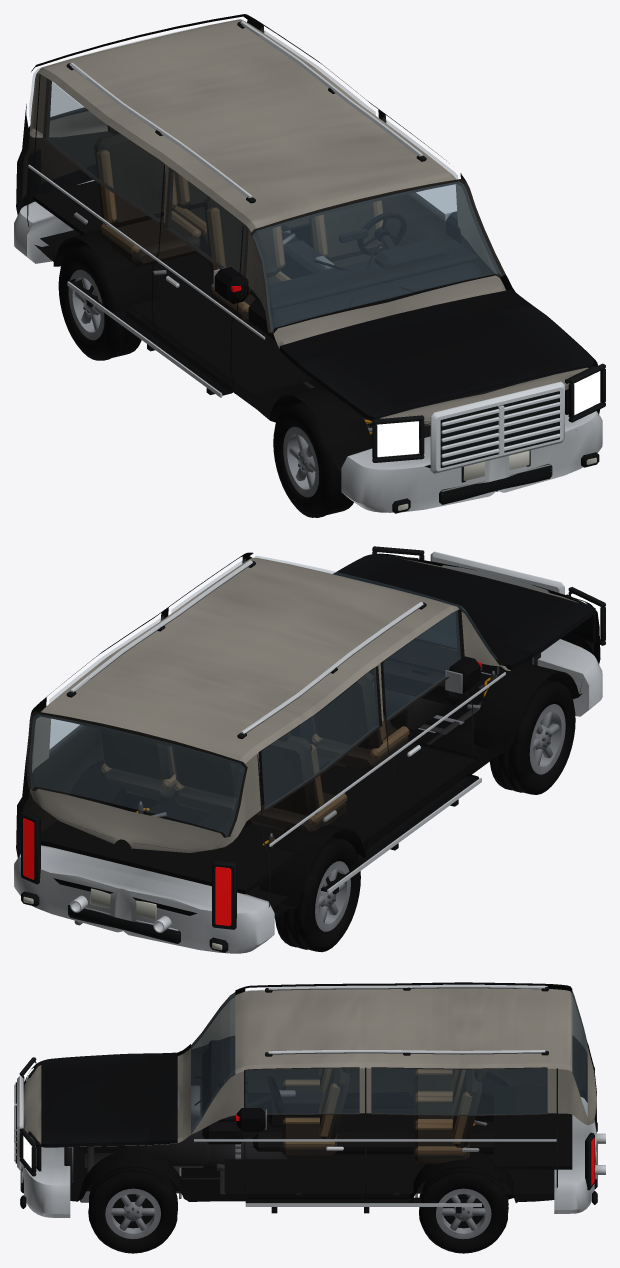
File: escapade_2009.glb
3 renders of one model, top to bottom at view 1: azimuth 30°, elevation 25°; view 2: azimuth 150°, elevation 25°; view 3: azimuth 270°, elevation 25°, orthographic. The views are drawn at different scales.
Parts seen in each view (by area): view 1: interior, glass, bonnet, bumper_front, chrome, trim, underside, wheel_fr, wheel_rr, grille, body, bumper_rear (+3 smaller); view 2: interior, glass, underside, bumper_rear, bonnet, trim, chrome, wheel_fr, wheel_rr, bumper_front, body, taillights (+1 smaller); view 3: interior, glass, bonnet, underside, wheel_fl, wheel_rl, chrome, trim, bumper_front, bumper_rear, body, mirror_l.
Boxes of the visible parts, box(x1,y1,x2,y2) form: interior: box(22, 19, 593, 425); glass: box(29, 27, 501, 331); bonnet: box(279, 289, 593, 420); bumper_front: box(341, 406, 602, 513); chrome: box(28, 21, 564, 473); trim: box(23, 26, 605, 462); underside: box(34, 225, 576, 471); wheel_fr: box(273, 402, 353, 517); wheel_rr: box(58, 245, 141, 360); grille: box(440, 391, 559, 467); body: box(16, 14, 600, 424); bumper_rear: box(14, 180, 94, 263); interior: box(23, 557, 594, 908); glass: box(29, 556, 497, 836); underside: box(53, 639, 582, 925); bumper_rear: box(14, 845, 274, 953); bonnet: box(333, 554, 593, 670); trim: box(21, 546, 605, 929); chrome: box(66, 551, 564, 932); wheel_fr: box(490, 679, 575, 794); wheel_rr: box(275, 837, 360, 952); bumper_front: box(481, 639, 602, 716); body: box(16, 552, 600, 857); taillights: box(23, 818, 230, 925); interior: box(23, 988, 596, 1193); glass: box(191, 990, 587, 1132); bonnet: box(41, 1052, 177, 1147); underside: box(24, 1077, 596, 1202); wheel_fl: box(88, 1166, 177, 1253); wheel_rl: box(419, 1166, 508, 1253); chrome: box(14, 984, 605, 1206); trim: box(19, 989, 594, 1213); bumper_front: box(20, 1147, 70, 1217); bumper_rear: box(554, 1097, 597, 1213); body: box(23, 982, 596, 1132); mirror_l: box(236, 1108, 266, 1131).
Size of the model in its own units: 2.07 by 1.87 by 5.28.
